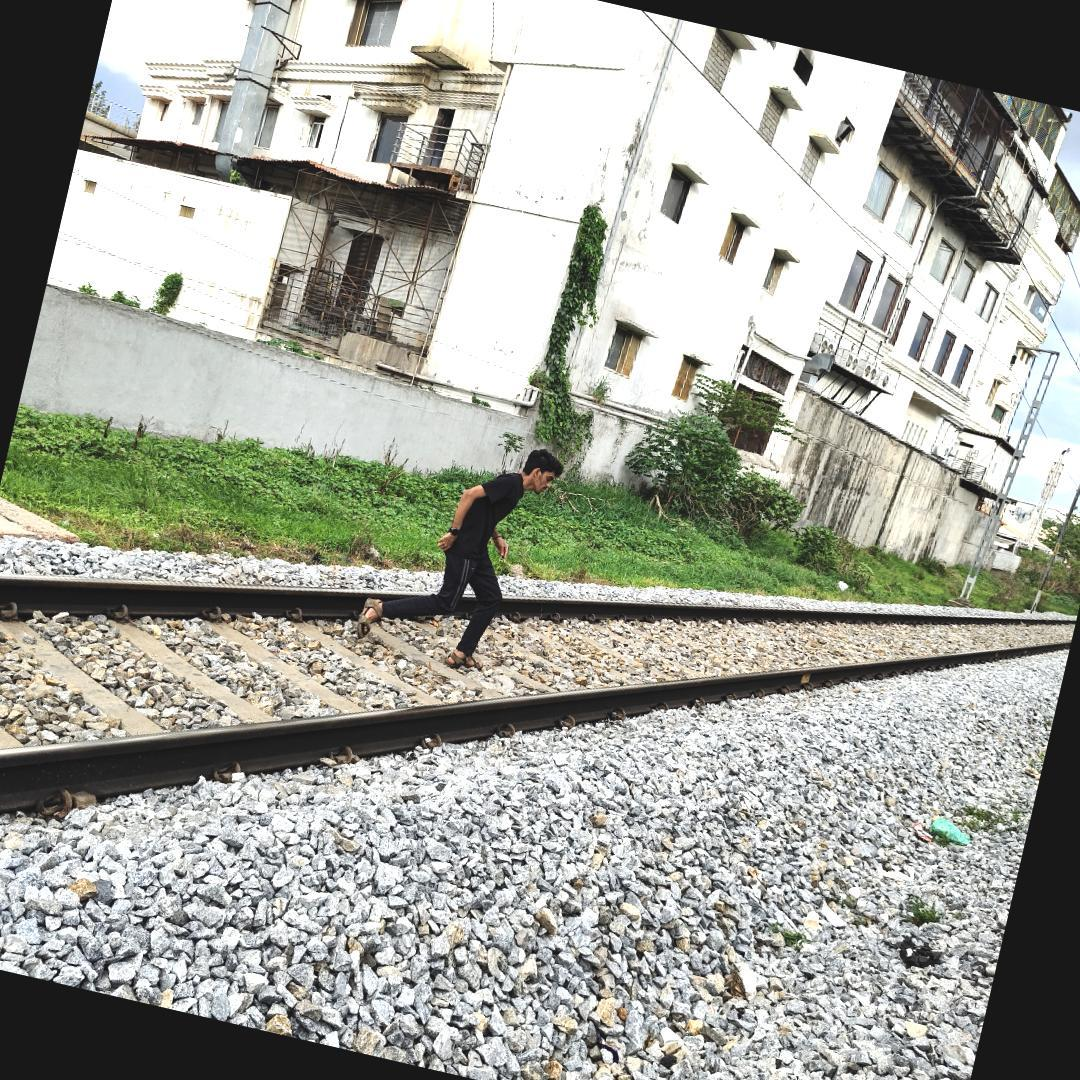standing: (351, 443, 576, 683)
